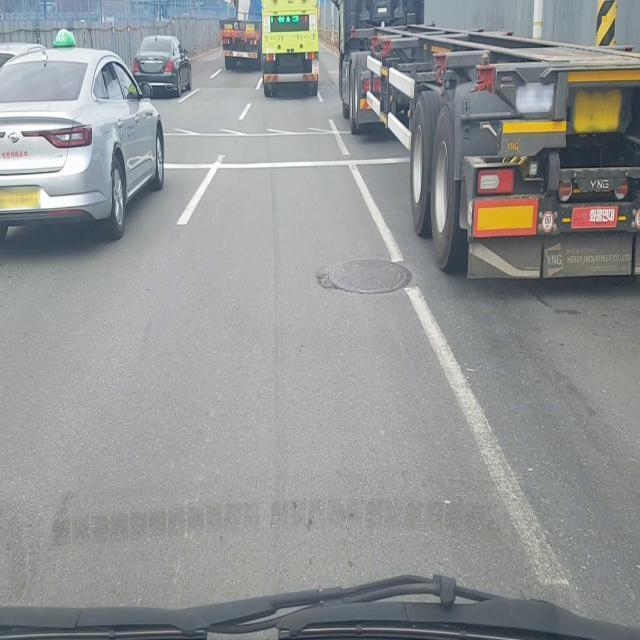pothole: (316, 256, 413, 295)
